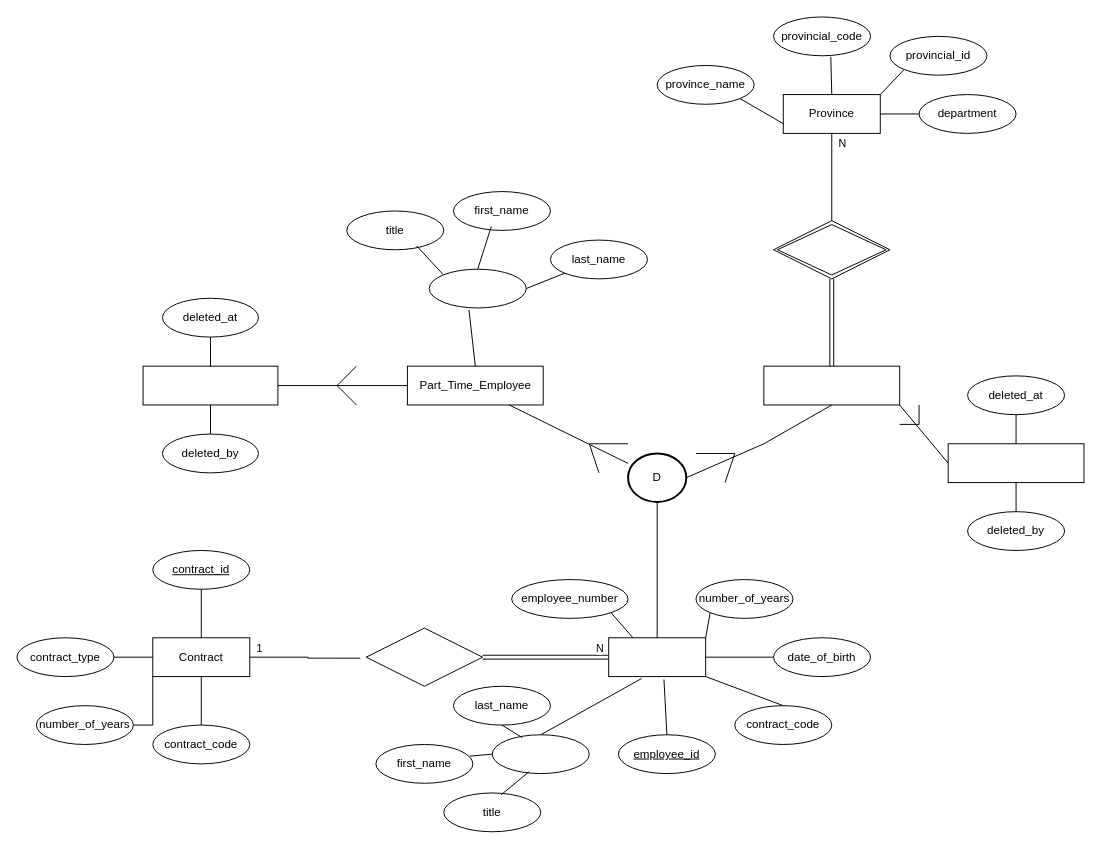
Some shapes in this 1101 by 849 pixel diagram are drawn without their labels. Here are the shapes that lost their labels. From the top down, the centre of each, then its label:
At (x=831, y=249): "Works in".
At (x=477, y=288): "mentor_name".
At (x=210, y=385): "Deleted_Part_Time".
At (x=831, y=385): "Full_Time_Employee".
At (x=1015, y=463): "Deleted_Full_Time".
At (x=424, y=656): "holds".
At (x=657, y=657): "Employee".
At (x=540, y=754): "employee_name".
